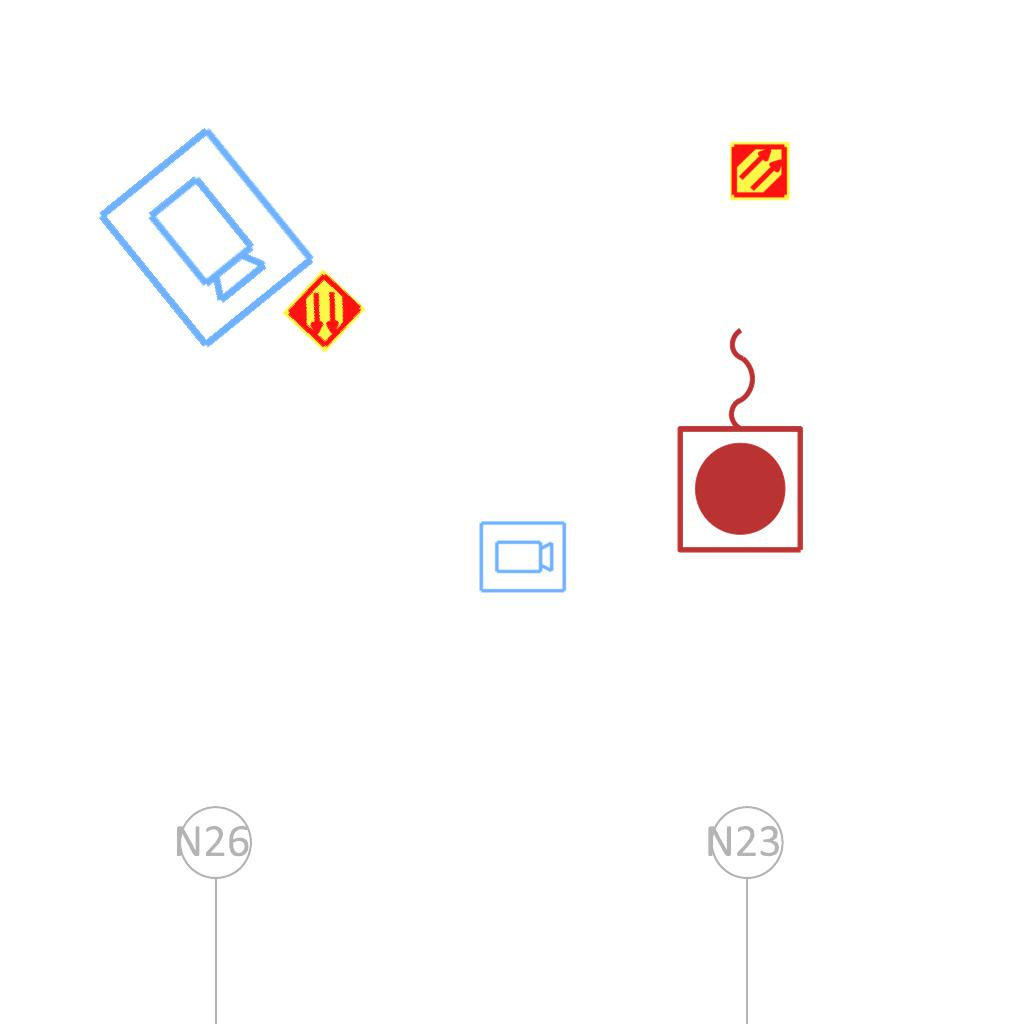ASR_Ansaugrauchmelder: (280, 267, 368, 355), (728, 139, 792, 203)
KFO_Kamera_mit_Festobjektiv: (87, 118, 323, 358), (477, 519, 568, 596)
Zugtaster: (670, 317, 814, 561)
